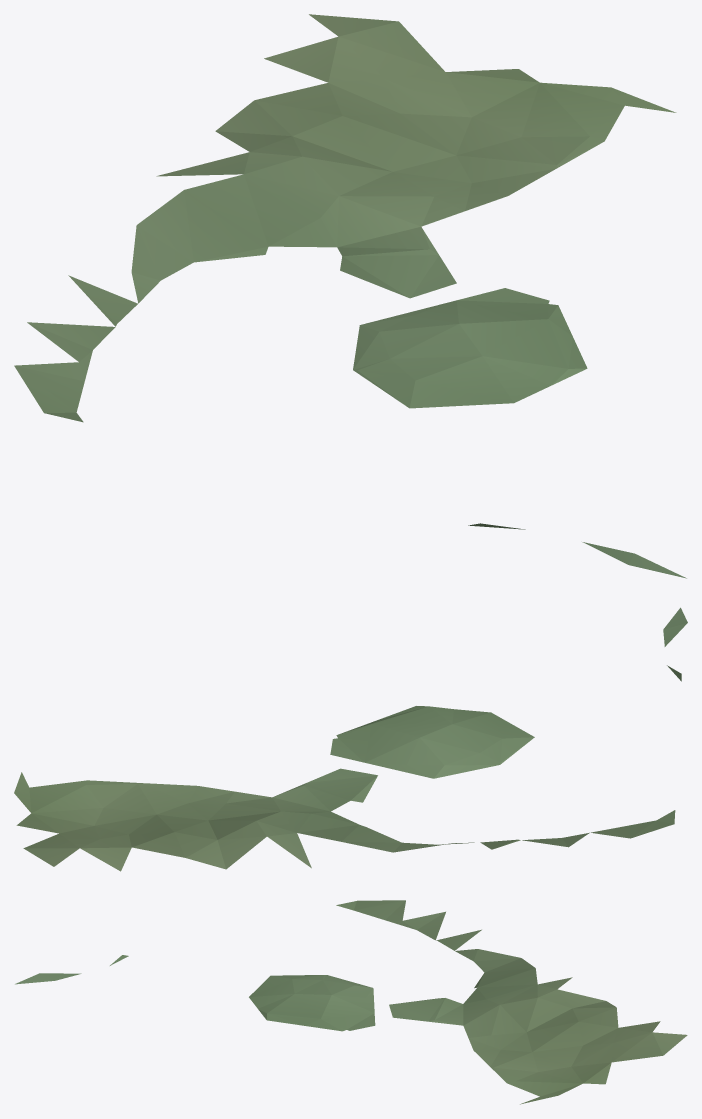
3 renders of one model, top to bottom at view 1: azimuth 30°, elevation 25°; view 2: azimuth 150°, elevation 25°; view 3: azimuth 270°, elevation 25°, orthographic. The views are drawn at different scales.
Visible parts, largest first — view 1: 海南椰岸; view 2: 海南椰岸; view 3: 海南椰岸.
Part boxes in pixels (x1,y1,x2,y2): 海南椰岸: (14,14,686,578); 海南椰岸: (14,607,687,871); 海南椰岸: (15,900,687,1104).
Size of the model in its own units: 7.73 by 0.3698 by 10.91.
